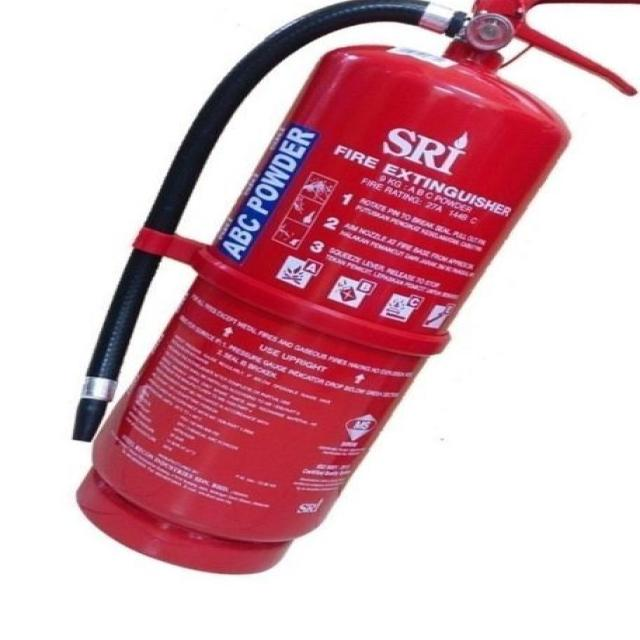fire_extinguisher: (63, 0, 638, 584)
